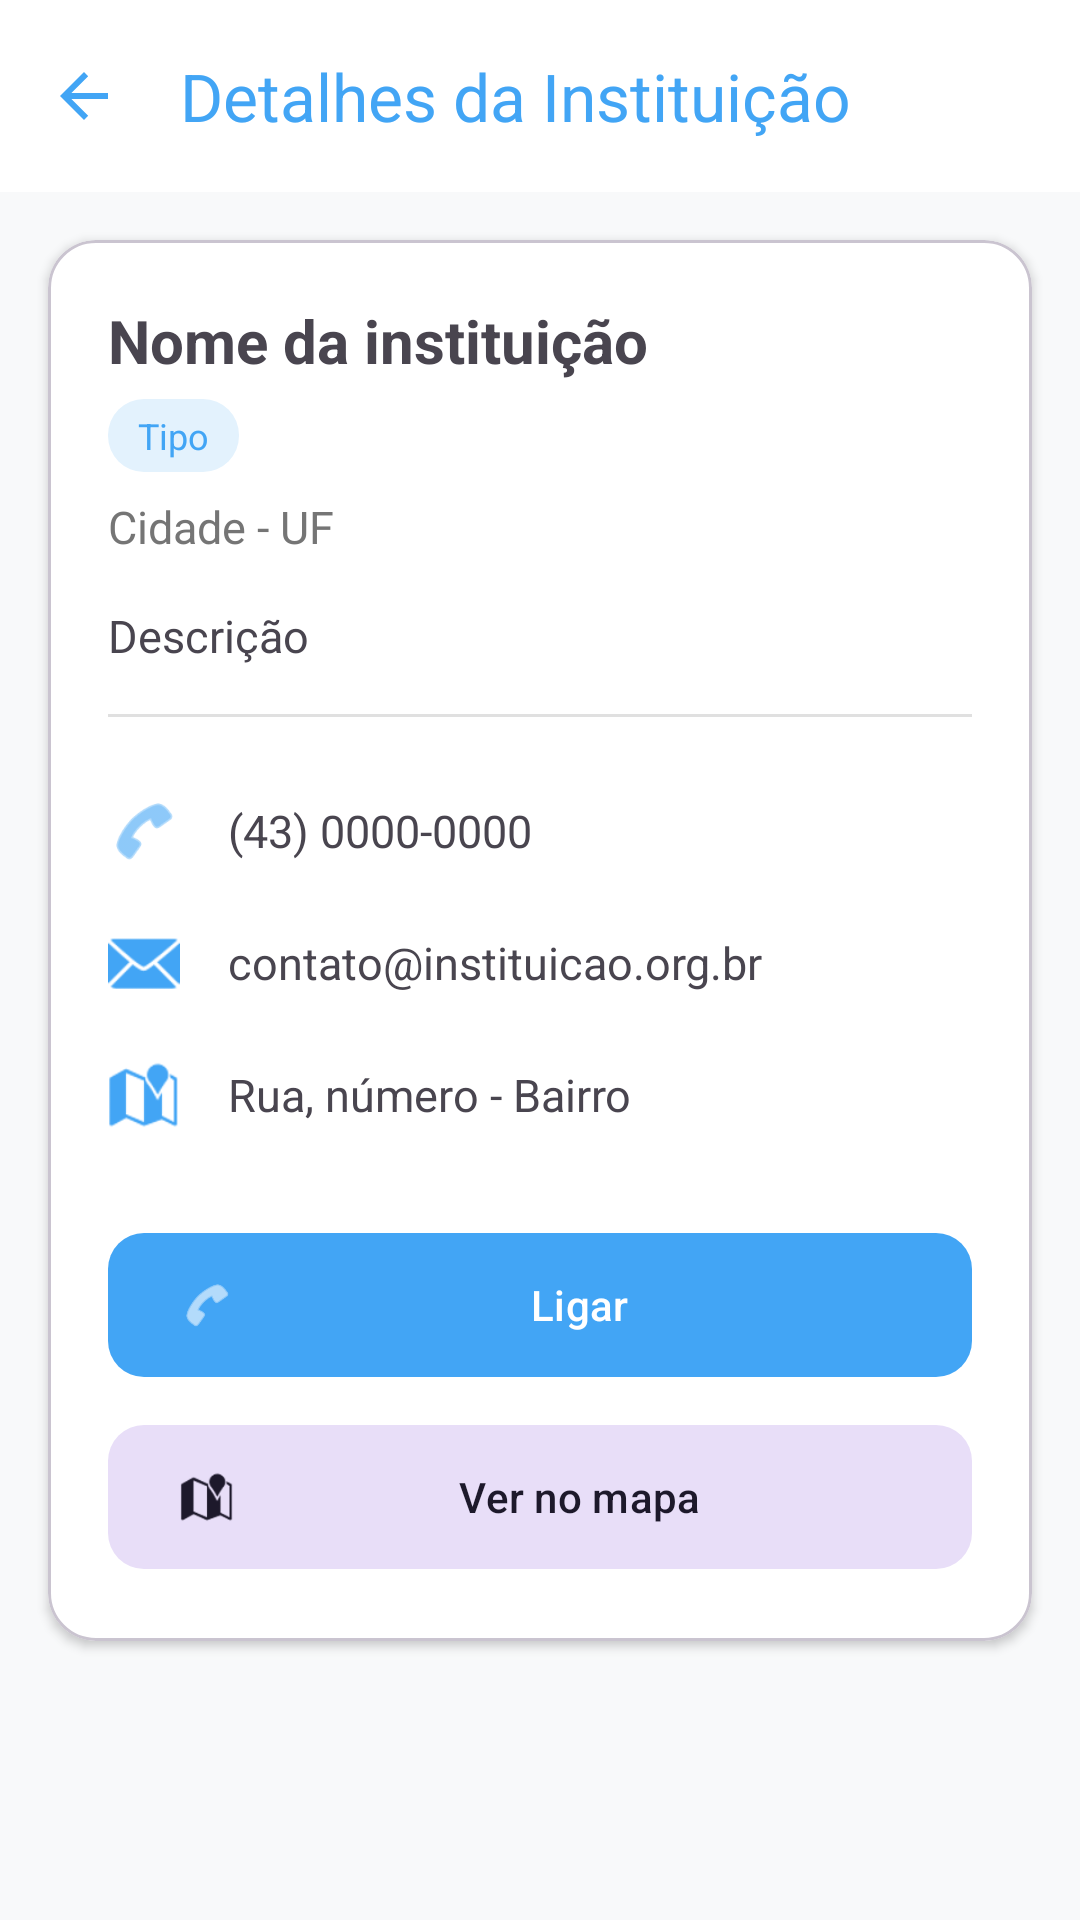

Where to tap for icons on this 1080w x 1920h app screen, as (x,y):
E-mail ou site: (144,963)
Endereço: (143,1095)
Telefone: (144,831)
